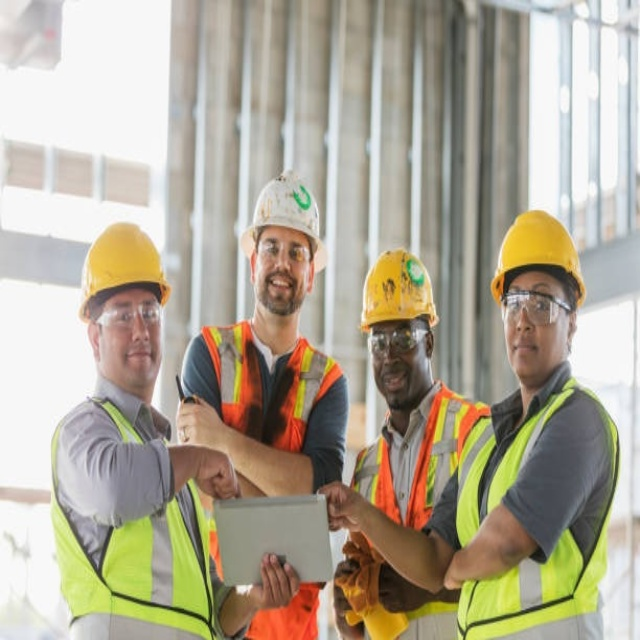Gafas: (92, 293, 163, 331), (500, 290, 571, 325), (369, 326, 429, 355), (256, 235, 314, 264)
Guantes: (333, 531, 396, 635)
Sin_guantes: (196, 442, 243, 499), (257, 549, 302, 604), (174, 389, 221, 439), (317, 478, 363, 527)
Sin_mascara: (124, 345, 157, 378), (509, 337, 542, 367), (379, 369, 412, 398), (266, 271, 292, 303)
